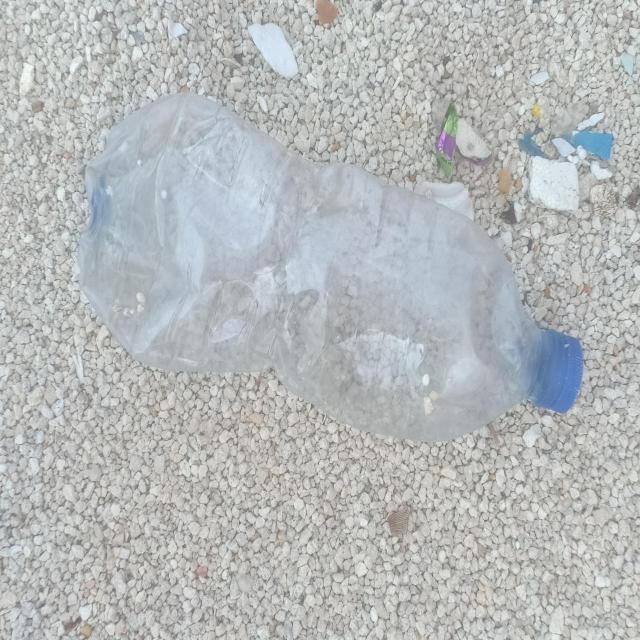litter: (70, 92, 587, 450)
